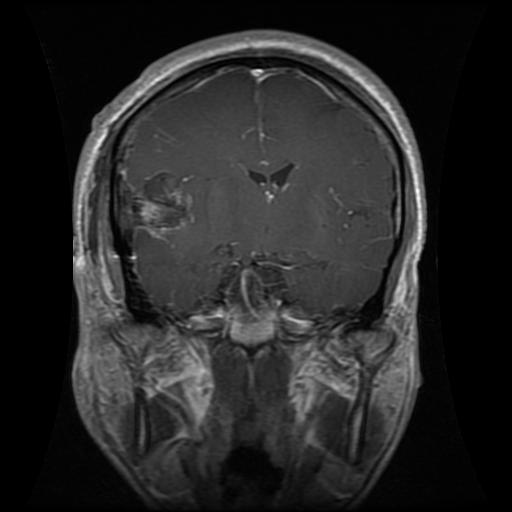Gliomia_tumour: (119, 166, 195, 247)
